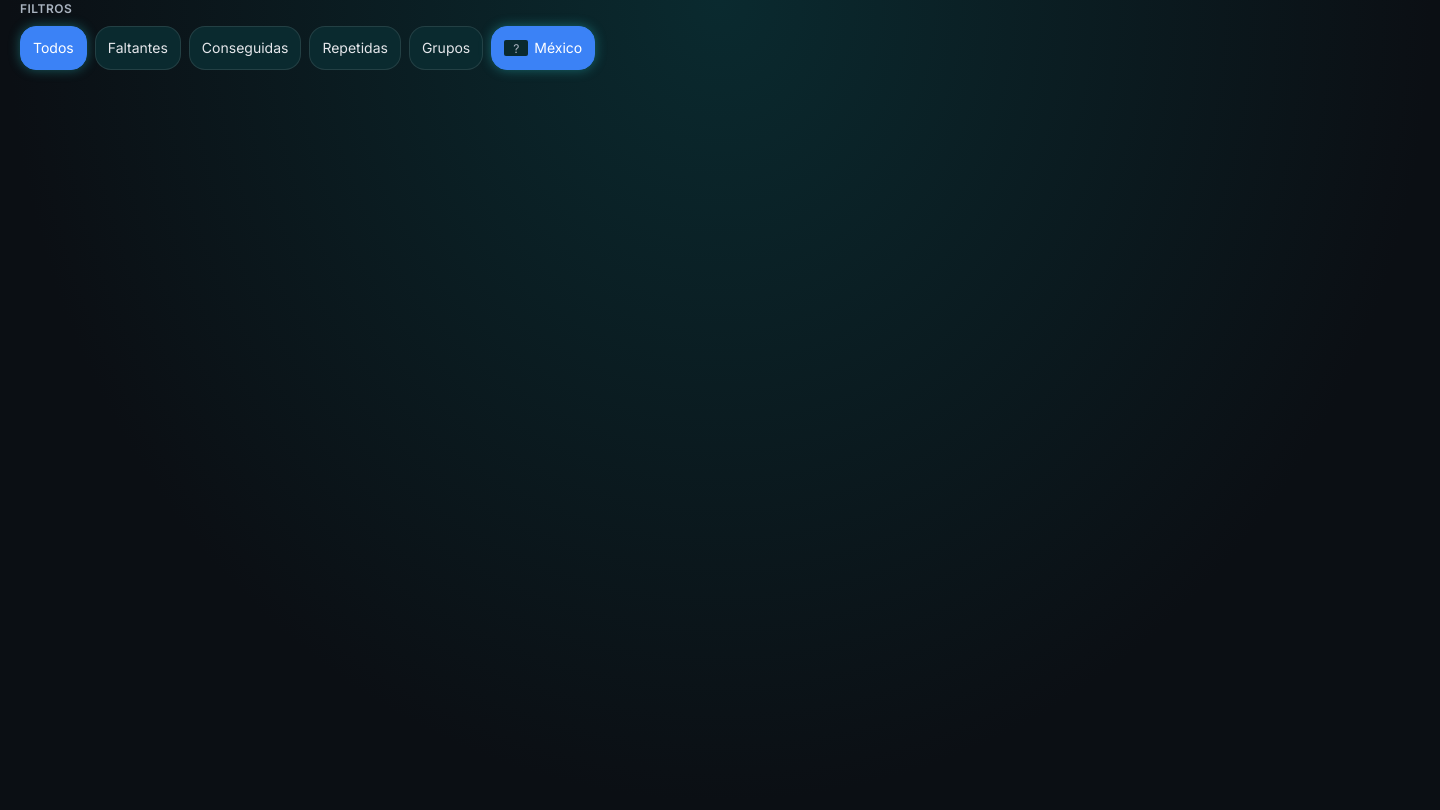
Test: FilterBar › reopens the Países sheet from an active country without clearing scope
Click the button "? México". click: (543, 48)
box: [491,26,595,70]
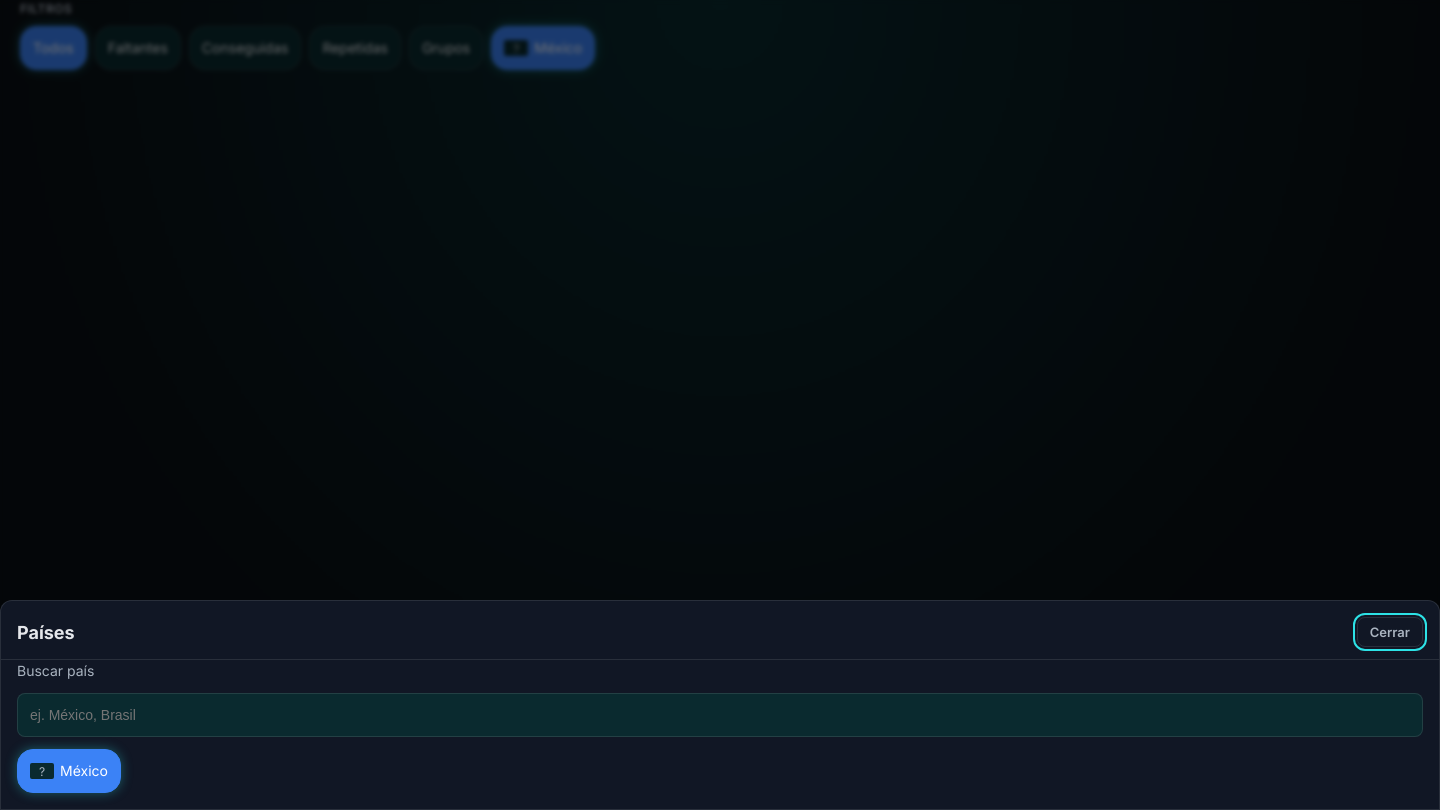
expect the dialog "Países" is shown: met, box [0,600,1439,809]
